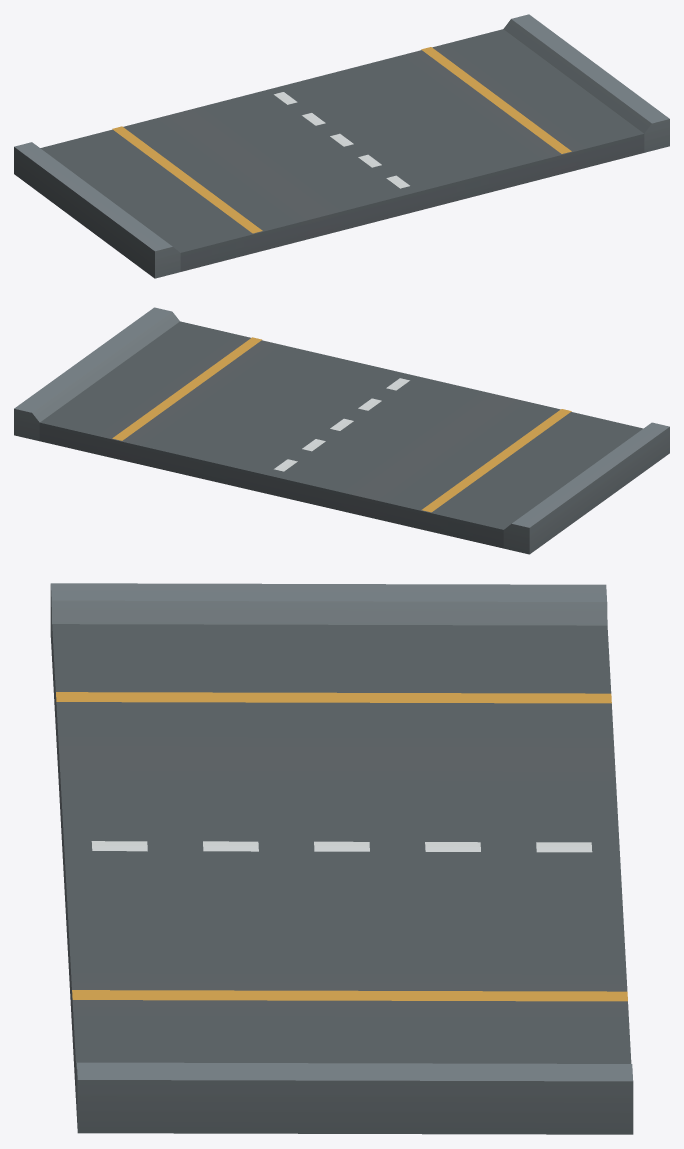
Rendered from road22.002_lev3.glb.
3 views of the same model, one above another, from view 1: azimuth 30°, elevation 25°; view 2: azimuth 150°, elevation 25°; view 3: azimuth 270°, elevation 25° (orthographic). The views are drawn at different scales.
Visible parts, largest first — view 1: road_straight.022; view 2: road_straight.022; view 3: road_straight.022.
Boxes of the visible parts, box(x1,y1,x2,y2) form: road_straight.022: box(14, 14, 669, 278); road_straight.022: box(14, 307, 669, 554); road_straight.022: box(50, 583, 633, 1134).
Size of the model in its own units: 5.54 by 0.2768 by 2.74.
Materials: 1 (1 with a texture image).
